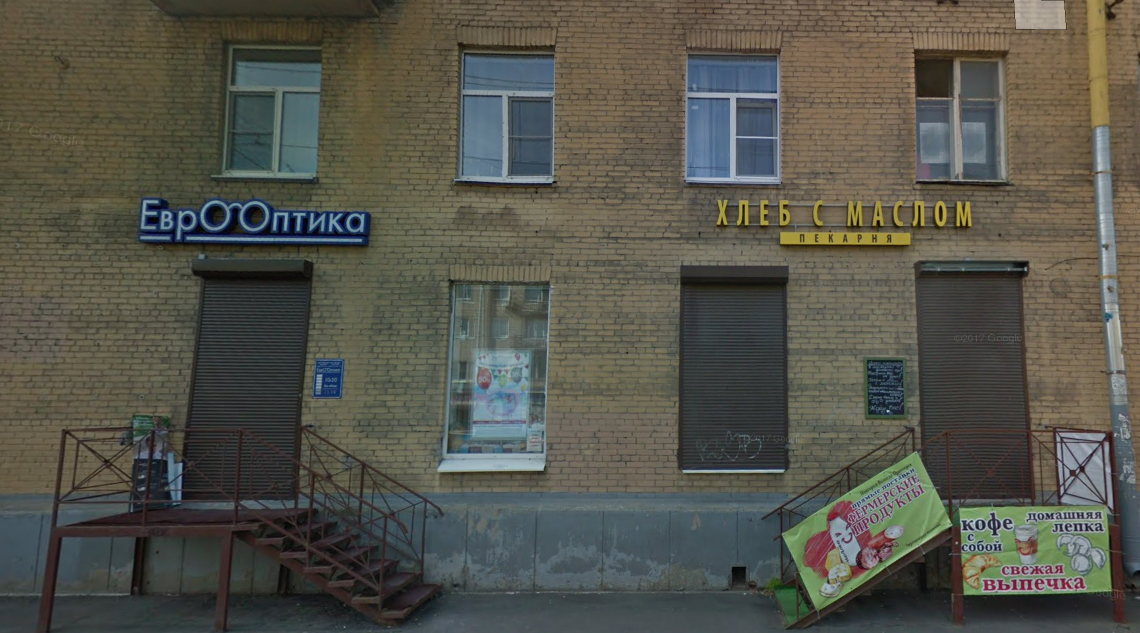door: (916, 263, 1036, 502), (192, 261, 296, 503)
signboard: (129, 187, 378, 256), (707, 193, 983, 251)
window: (679, 272, 787, 471), (451, 278, 548, 468), (217, 45, 326, 176), (452, 49, 557, 181), (684, 50, 778, 180), (917, 54, 1005, 181)
